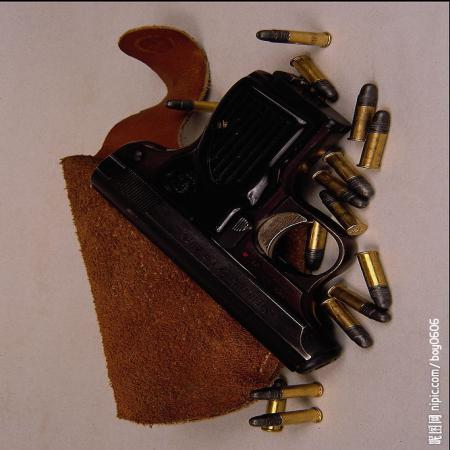Pistol: (88, 70, 358, 372)
